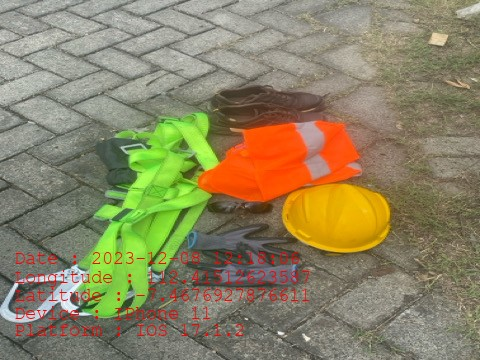HELM: (282, 184, 388, 252)
ROMPI: (199, 121, 360, 199)
